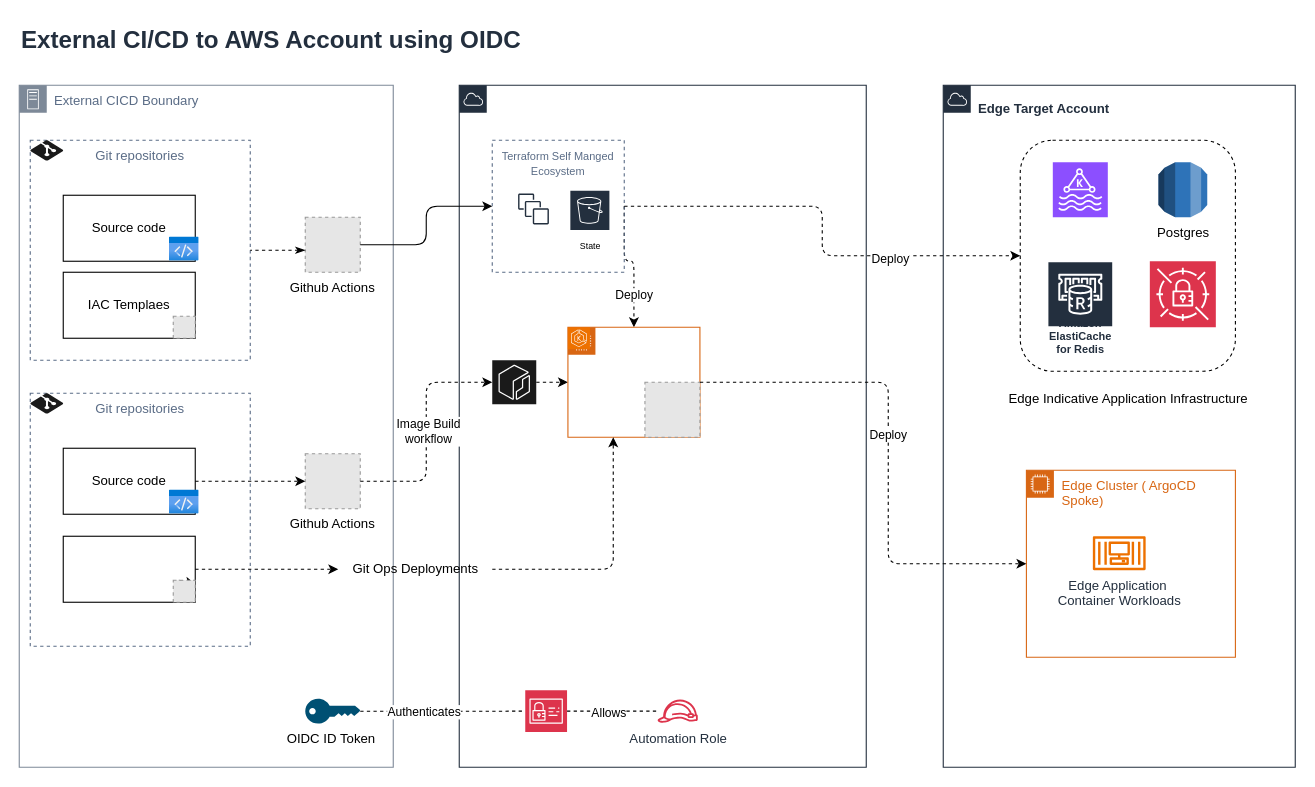
Some shapes in this 1315 by 787 pixel diagram are drawn without their labels. Grey dashed boxes stand in for pictures. Each missing label, with the box of its shape:
Automation Account: (458, 84, 866, 767)
Cluster (ArgoCD Hub): (567, 326, 700, 437)
ECR: (491, 359, 536, 404)
Helm repositories: (62, 535, 195, 602)
IAM Identity Provider: (524, 689, 567, 732)
Managed Kafka: (1052, 161, 1108, 217)
Runners: (513, 189, 553, 228)
Secrets: (1149, 260, 1216, 327)
